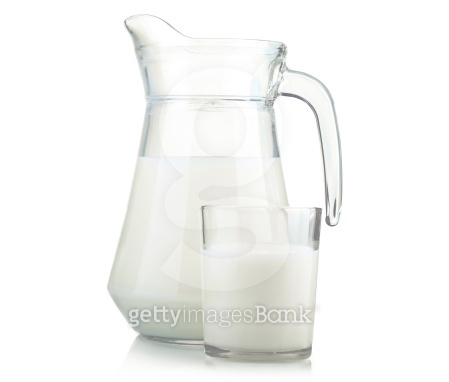glass of milk: (123, 36, 311, 350), (198, 192, 324, 363)
